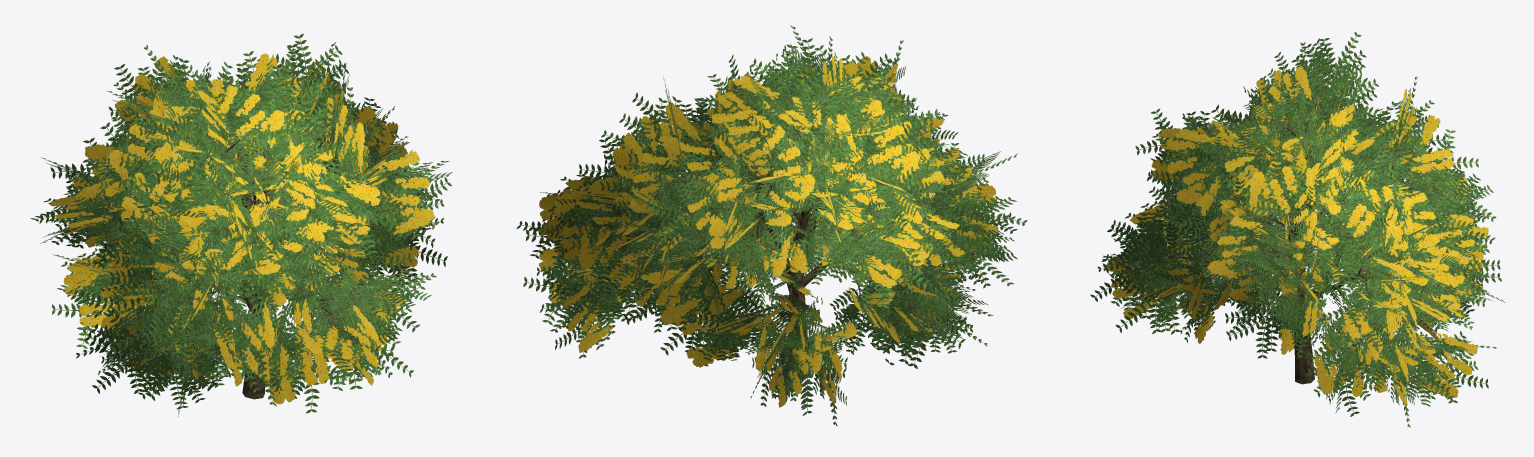
The model's file is veg_tree_koon_a.glb.
The picture shows the model from 3 angles, left to right: view 1: azimuth 30°, elevation 25°; view 2: azimuth 150°, elevation 25°; view 3: azimuth 270°, elevation 25°; orthographic projection. The views are drawn at different scales.
Visible parts, largest first — view 1: Leaves, Trunk; view 2: Leaves, Trunk; view 3: Leaves, Trunk.
Part boxes in pixels (x1=…): Leaves: x1=30, y1=33, x2=452, y2=416; Trunk: x1=141, y1=128, x2=338, y2=399; Leaves: x1=516, y1=25, x2=1027, y2=426; Trunk: x1=631, y1=113, x2=923, y2=377; Leaves: x1=1090, y1=31, x2=1505, y2=427; Trunk: x1=1179, y1=120, x2=1413, y2=384.
Bounding box in the file's own units: 44.35 × 33.97 × 42.95.
Materials: 2 (2 with a texture image).
